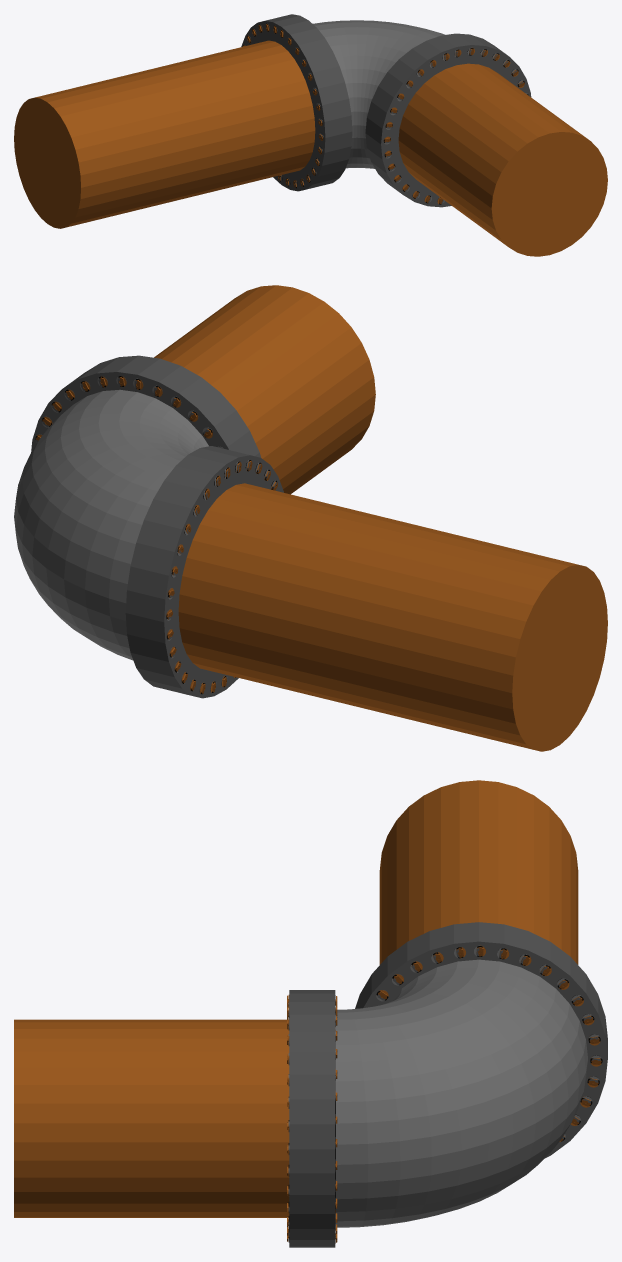
File: ObjectsForThereWFR(PipeCorner).fbx
The picture shows the model from 3 angles, top to bottom: view 1: azimuth 30°, elevation 25°; view 2: azimuth 150°, elevation 25°; view 3: azimuth 270°, elevation 25°; orthographic projection. The views are drawn at different scales.
Parts seen in each view (by area): view 1: FinalCopyCorner; view 2: FinalCopyCorner; view 3: FinalCopyCorner.
Part boxes in pixels (bbox=[...]): FinalCopyCorner: bbox=[14, 14, 607, 256]; FinalCopyCorner: bbox=[14, 285, 607, 751]; FinalCopyCorner: bbox=[14, 780, 607, 1247].
Bounding box in the file's own units: 723 × 260 × 599.
